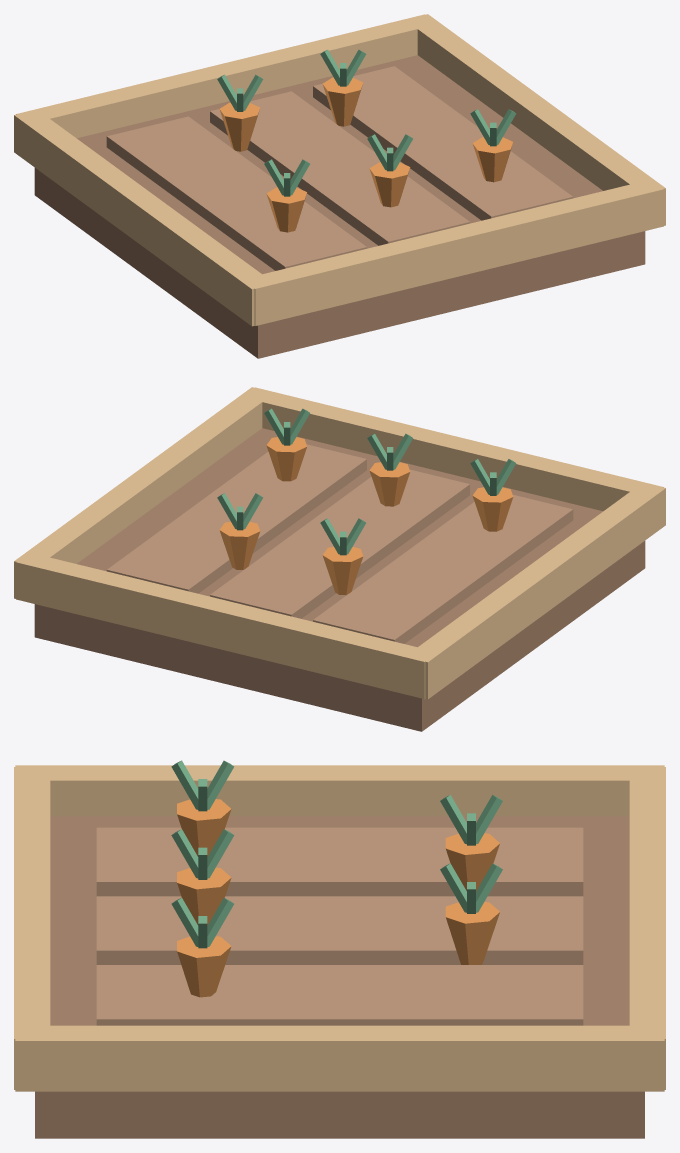
The model's file is plot_carrot_growing.glb.
3 views of the same model, one above another, from view 1: azimuth 30°, elevation 25°; view 2: azimuth 150°, elevation 25°; view 3: azimuth 270°, elevation 25° (orthographic). The views are drawn at different scales.
Parts seen in each view (by area): view 1: square soil bed.008, short timber edge.016, raised planting row.024, long timber edge.016, raised planting row.026, raised planting row.025, short timber edge.017, long timber edge.017, orange carrot root.004, orange carrot root.003, orange carrot root.001, orange carrot root (+1 smaller); view 2: square soil bed.008, short timber edge.017, raised planting row.024, long timber edge.016, raised planting row.026, raised planting row.025, short timber edge.016, long timber edge.017, orange carrot root.004, orange carrot root.003, orange carrot root.002, orange carrot root (+1 smaller); view 3: square soil bed.008, long timber edge.017, raised planting row.026, long timber edge.016, raised planting row.025, raised planting row.024, short timber edge.017, short timber edge.016, orange carrot root.004, orange carrot root.002, orange carrot root, orange carrot root.001 (+11 smaller).
Boxes of the visible parts, x1,y1,x2,y2 form: square soil bed.008: (34,55,645,358); short timber edge.016: (242,184,663,325); raised planting row.024: (106,116,366,270); long timber edge.016: (14,109,274,326); raised planting row.026: (313,66,573,220); raised planting row.025: (210,91,469,245); short timber edge.017: (16,14,436,138); long timber edge.017: (405,14,665,225); orange carrot root.004: (322,77,363,126); orange carrot root.003: (219,102,259,151); orange carrot root.001: (369,162,410,207); orange carrot root: (266,187,306,232); square soil bed.008: (34,428,645,731); short timber edge.017: (16,557,436,698); raised planting row.024: (313,494,573,643); long timber edge.016: (405,482,665,699); raised planting row.026: (106,444,366,593); raised planting row.025: (210,469,469,618); short timber edge.016: (243,387,663,511); long timber edge.017: (14,387,274,598); orange carrot root.004: (219,521,260,569); orange carrot root.003: (322,546,363,594); orange carrot root.002: (266,437,307,481); orange carrot root: (472,487,513,531); square soil bed.008: (35,816,644,1138); long timber edge.017: (15,1025,664,1091); raised planting row.026: (96,965,583,1025); long timber edge.016: (15,765,664,816); raised planting row.025: (96,896,583,964); raised planting row.024: (96,827,583,896); short timber edge.017: (629,767,665,1089); short timber edge.016: (14,767,50,1089); orange carrot root.004: (445,902,499,964); orange carrot root.002: (177,936,231,997); orange carrot root: (177,799,231,856); orange carrot root.001: (177,867,231,925).
Size of the model in its own units: 2.33 by 0.6838 by 2.33.
